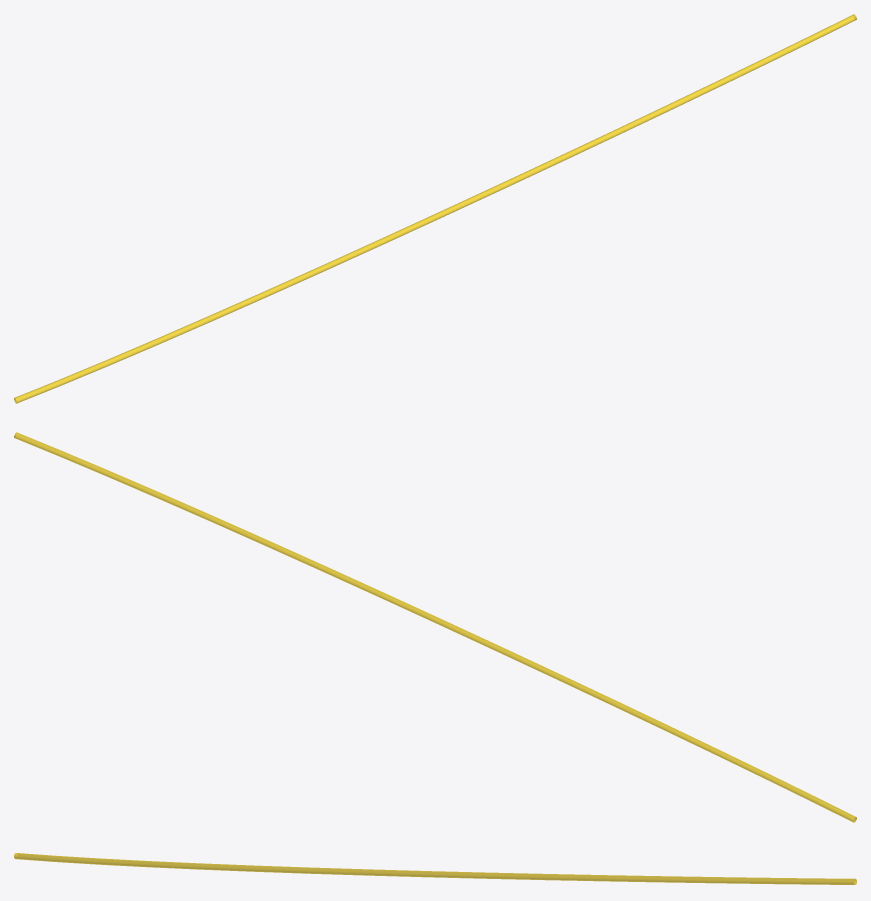
The model's file is Event_84804159_track_31.fbx.
3 views of the same model, one above another, from view 1: azimuth 30°, elevation 25°; view 2: azimuth 150°, elevation 25°; view 3: azimuth 330°, elevation 25° (orthographic).
Visible parts, largest first — view 1: Model; view 2: Model; view 3: Model.
Boxes of the visible parts, box(x1,y1,x2,y2) form: Model: box(14, 14, 856, 403); Model: box(14, 432, 856, 822); Model: box(14, 853, 856, 884).
Bounding box in the file's own units: 6.13 × 1.29 × 0.1288.
